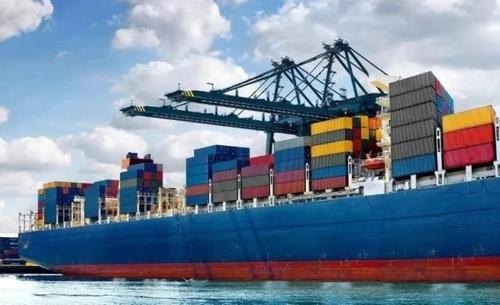Cargoship: (16, 62, 499, 278)
